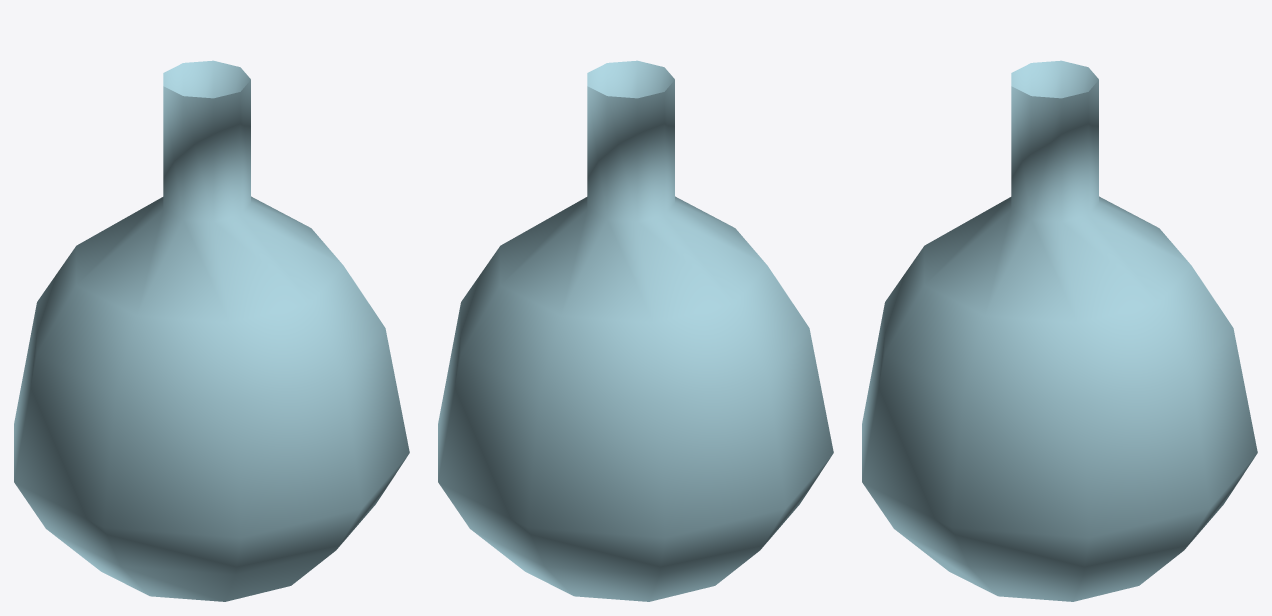
File: Glass_Bottle_1.fbx
3 views of the same model, side by side, from view 1: azimuth 30°, elevation 25°; view 2: azimuth 150°, elevation 25°; view 3: azimuth 270°, elevation 25° (orthographic).
Visible parts, largest first — view 1: Cylinder.028; view 2: Cylinder.028; view 3: Cylinder.028.
Boxes of the visible parts, left/top/right/bottom form: Cylinder.028: left=14, top=60, right=409, bottom=601; Cylinder.028: left=438, top=60, right=833, bottom=601; Cylinder.028: left=862, top=60, right=1257, bottom=601.
Bounding box in the file's own units: 18.03 × 25.76 × 17.76.
